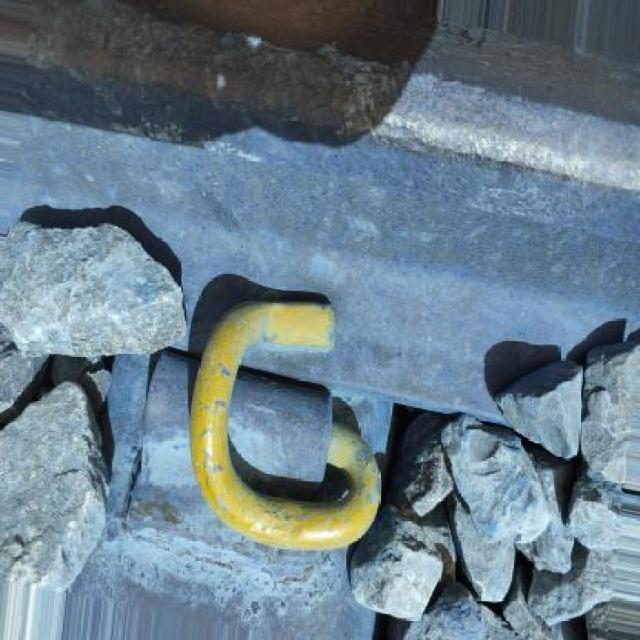defective: (0, 0, 635, 492)
